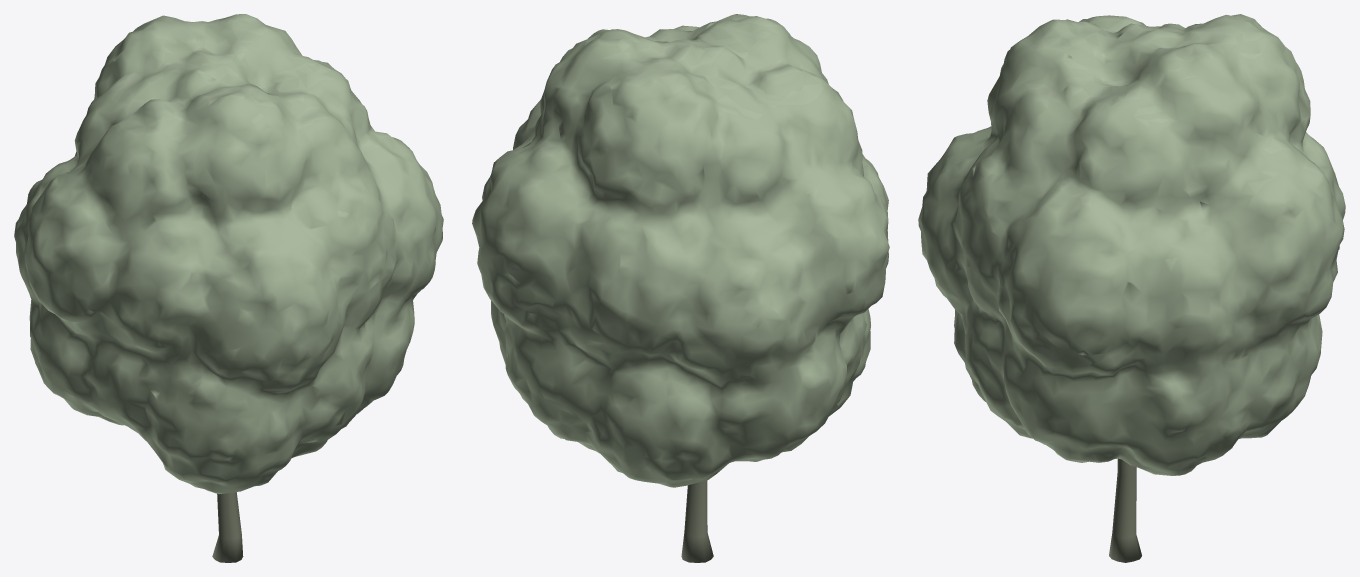
File: SM_MPRSC_Tree_Canopy.fbx
3 views of the same model, side by side, from view 1: azimuth 30°, elevation 25°; view 2: azimuth 150°, elevation 25°; view 3: azimuth 270°, elevation 25° (orthographic). The views are drawn at different scales.
Parts seen in each view (by area): view 1: SM_MPRSC_Tree_Canopy; view 2: SM_MPRSC_Tree_Canopy; view 3: SM_MPRSC_Tree_Canopy.
Boxes of the visible parts, <box> form: SM_MPRSC_Tree_Canopy: <box>14,14,443,562</box>; SM_MPRSC_Tree_Canopy: <box>472,14,889,562</box>; SM_MPRSC_Tree_Canopy: <box>918,14,1345,562</box>.
Size of the model in its own units: 1230 by 1156 by 1586.
